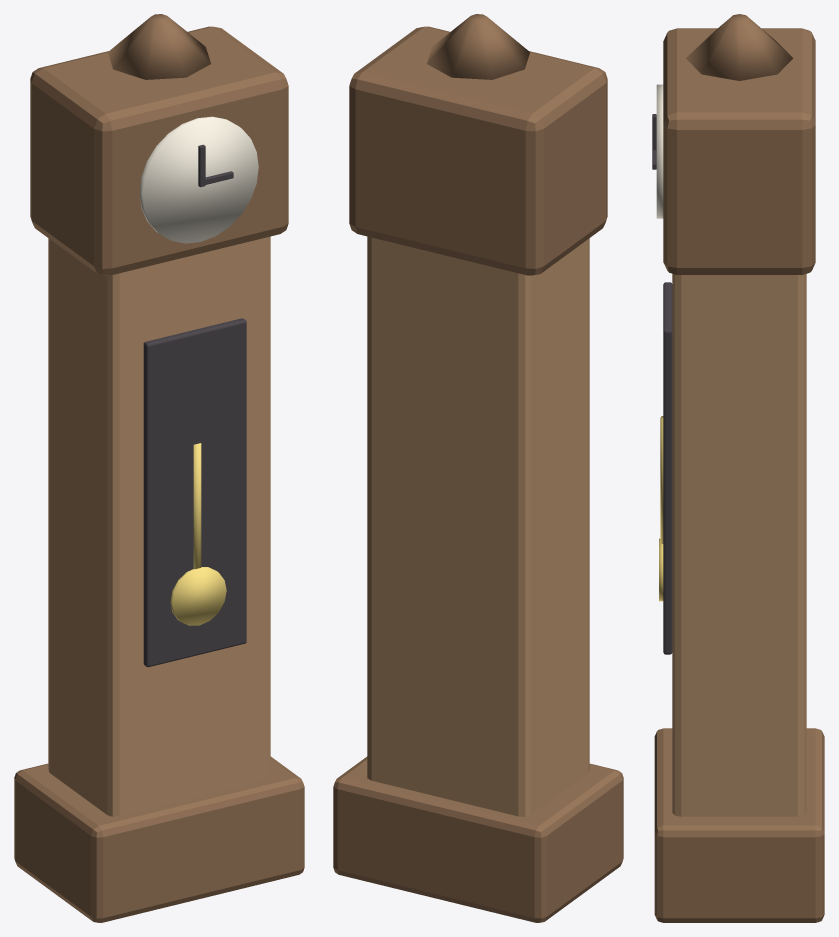
Rendered from GrandfatherClock.fbx.
3 views of the same model, side by side, from view 1: azimuth 30°, elevation 25°; view 2: azimuth 150°, elevation 25°; view 3: azimuth 270°, elevation 25° (orthographic).
Visible parts, largest first — view 1: GrandfatherClock; view 2: GrandfatherClock; view 3: GrandfatherClock.
Part boxes in pixels (x1,y1,x2,y2): GrandfatherClock: (14, 14, 304, 922); GrandfatherClock: (333, 14, 623, 922); GrandfatherClock: (652, 14, 824, 922).
Bounding box in the file's own units: 55 × 211 × 38.5.
